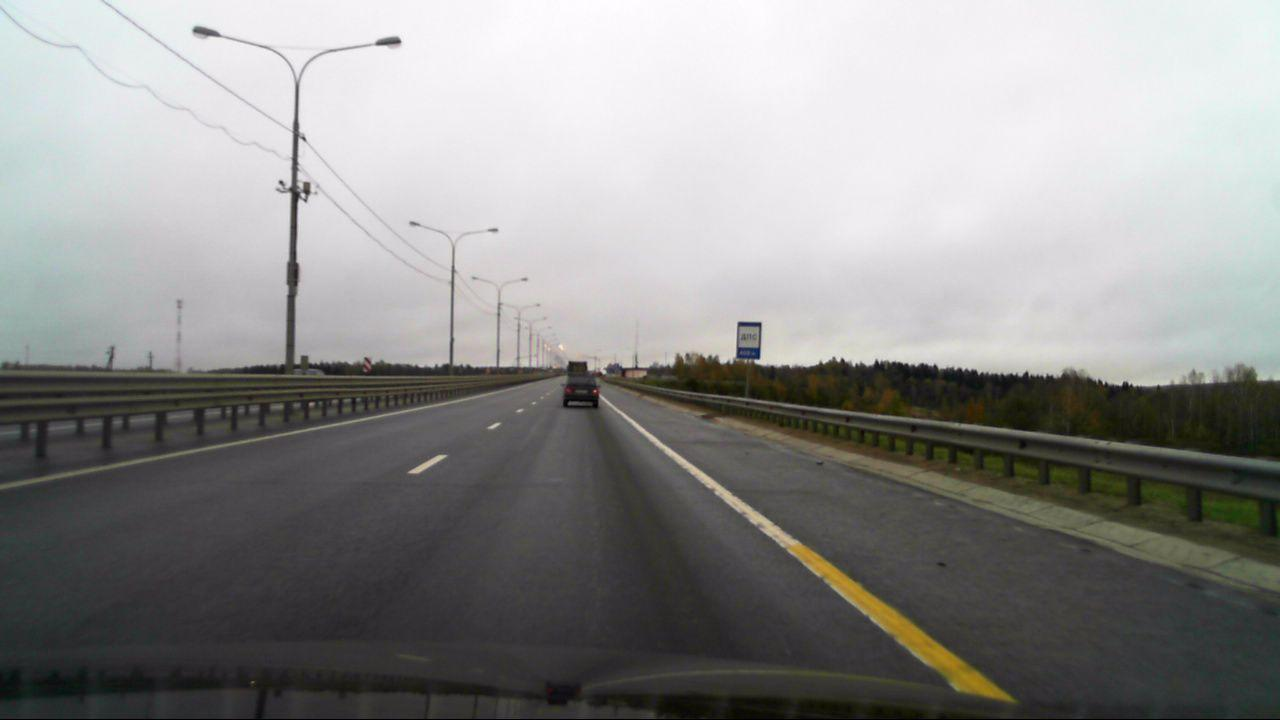7_12: (736, 321, 761, 358)
